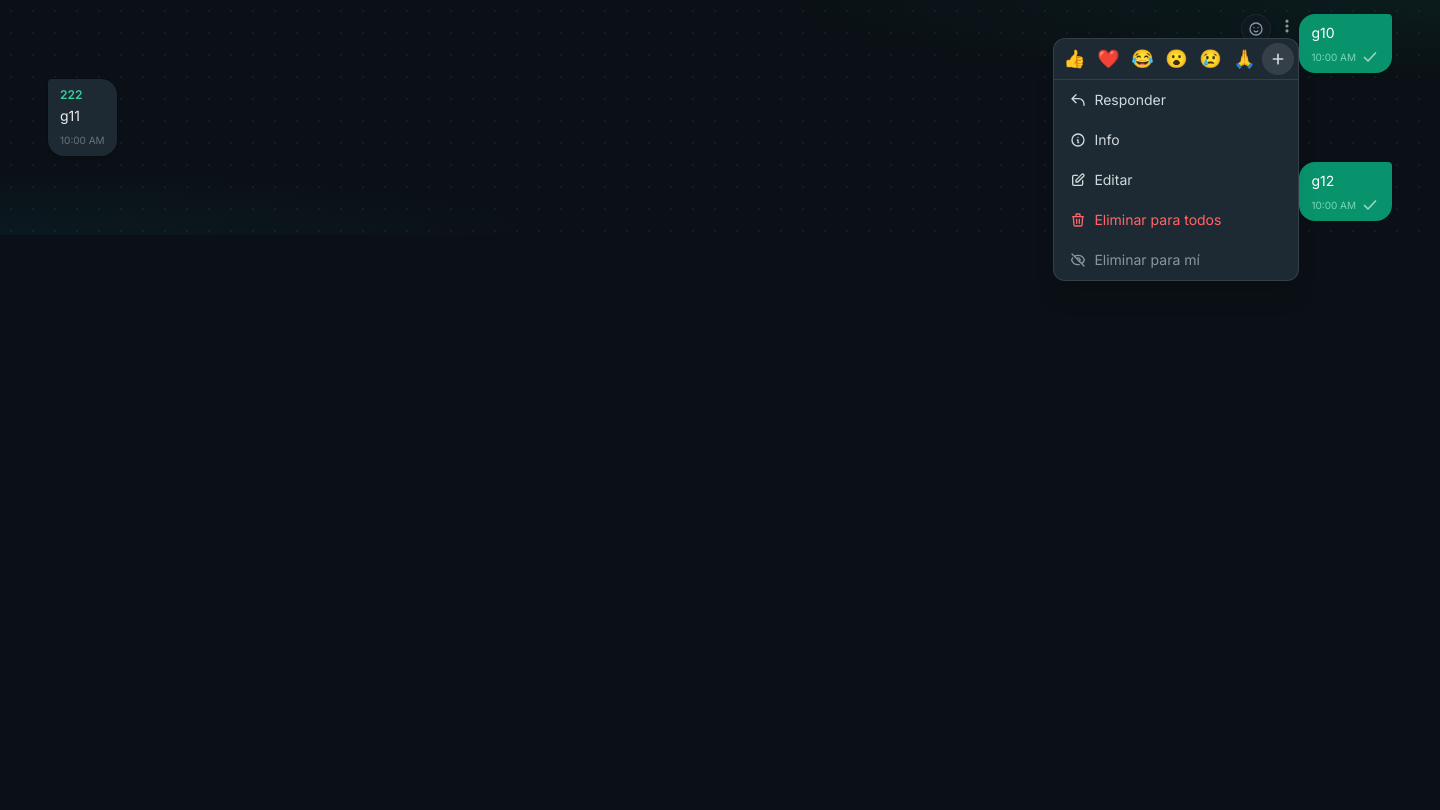
it: GroupMessageList receipts › opens the Info modal for my message and loads its receipts
Click the button "Info" at (1176, 140), box [1054,120,1298,160]
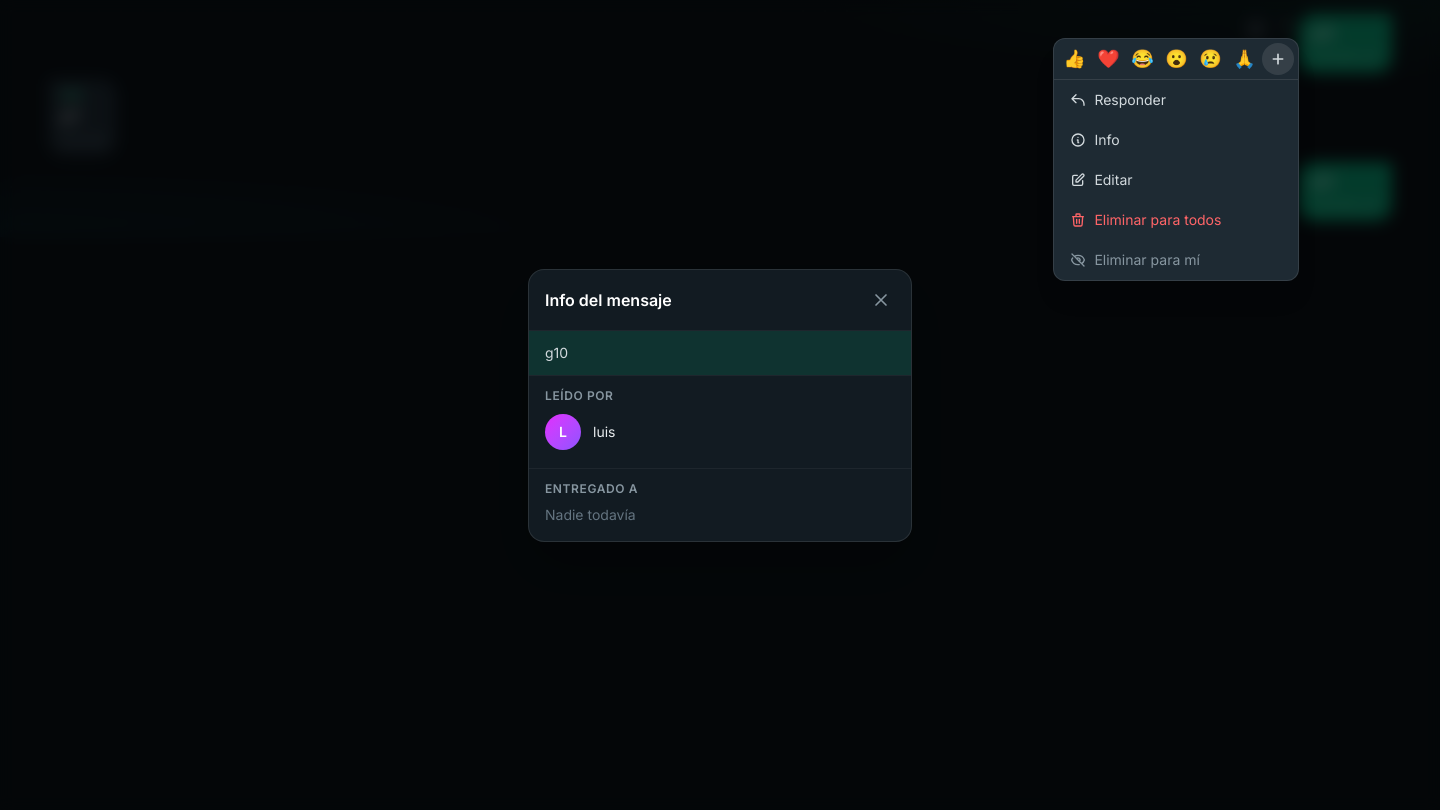
Result: the dialog shows "Leído por" at [545,388,614,402]
Result: the text "luis" is shown at [593,422,616,442]
